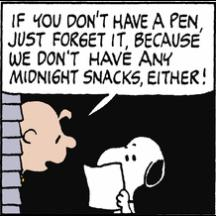charlie: (21, 100, 77, 182)
snoopy: (94, 136, 168, 214)
